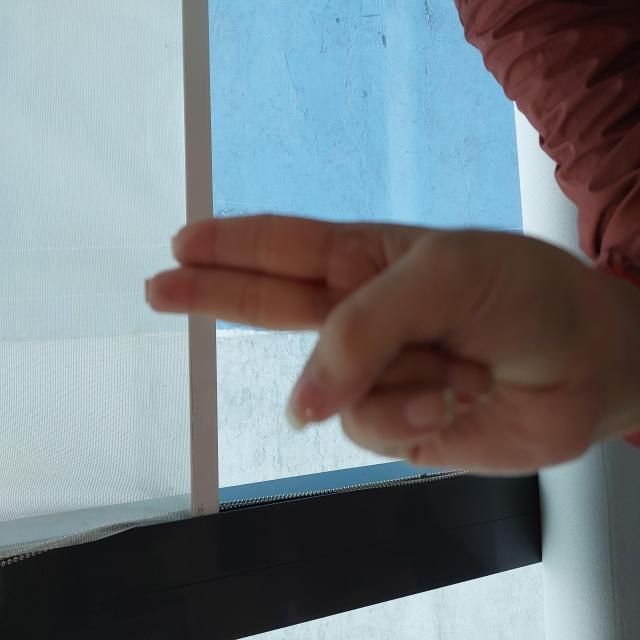U: (162, 142, 427, 621)
